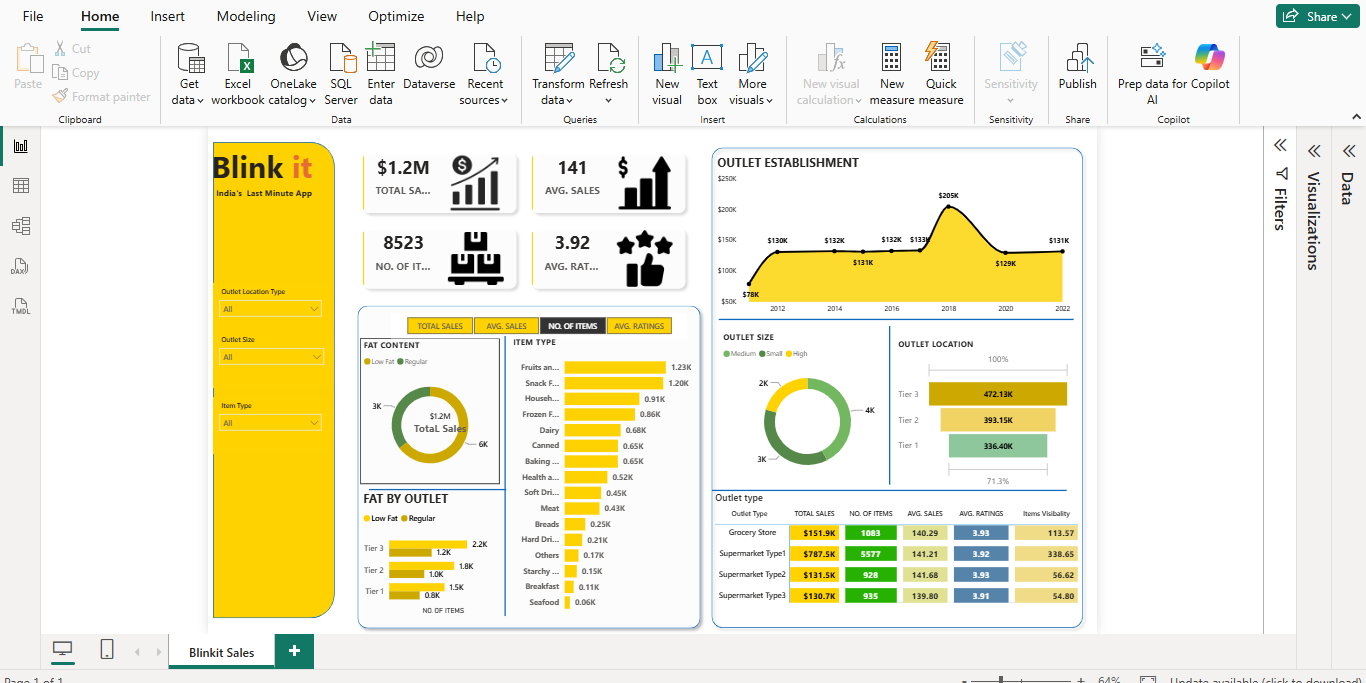

What the dashboard file says about the page in this screenshot:
{"tool":"powerbi","page":{"name":"Page 1","canvas":[1400,800],"ordinal":0},"visuals":[{"type":"shape","box":[8.3,25,191.7,750],"z":0},{"type":"textbox","box":[0,25.7,200.3,93.7],"z":1000},{"type":"textbox","box":[8.3,91.7,200,28.1],"z":2000},{"type":"cardVisual","fields":{"Data":["BlinkIT Grocery Data.TOTAL SALES","BlinkIT Grocery Data.AVG. SALES","BlinkIT Grocery Data.NO. OF ITEMS","BlinkIT Grocery Data.AVG. RATINGS"]},"box":[226,25.7,543.8,248],"z":3000},{"type":"shape","box":[226.1,273.9,557.6,526.1],"z":4000},{"type":"donutChart","title":"FAT CONTENT","fields":{"Y":["BlinkIT Grocery Data.NO. OF ITEMS"],"Category":["BlinkIT Grocery Data.Item Fat Content"]},"box":[238.8,334.4,220.5,229.7],"z":5000},{"type":"slicer","fields":{"Values":["Metrics.Metrics"]},"box":[288,294,466,40],"z":6000},{"type":"cardVisual","fields":{"Data":["BlinkIT Grocery Data.TOTAL SALES"]},"box":[304,426.3,123.2,81.8],"z":7000},{"type":"clusteredBarChart","title":" FAT BY OUTLET","fields":{"Y":["BlinkIT Grocery Data.NO. OF ITEMS"],"Category":["BlinkIT Grocery Data.Outlet Location Type"],"Series":["BlinkIT Grocery Data.Item Fat Content"]},"box":[239.1,573.6,220.7,201.1],"z":8000},{"type":"shape","box":[802.9,294,558.5,20.2],"z":9000},{"type":"shape","box":[459.8,331,16.1,441.4],"z":10000},{"type":"barChart","title":"ITEM TYPE","fields":{"Y":["BlinkIT Grocery Data.NO. OF ITEMS"],"Category":["BlinkIT Grocery Data.Item Type"]},"box":[475.9,330.7,290.3,444.6],"z":11000},{"type":"lineChart","title":"OUTLET ESTABLISHMENT","fields":{"Y":["BlinkIT Grocery Data.TOTAL SALES"],"Category":["BlinkIT Grocery Data.Outlet Establishment Year"]},"box":[797.4,44.1,565.9,260.9],"z":12000},{"type":"donutChart","title":"OUTLET SIZE","fields":{"Y":["BlinkIT Grocery Data.NO. OF ITEMS"],"Category":["BlinkIT Grocery Data.Outlet Size"]},"box":[806.6,323.4,275.6,240.7],"z":13000},{"type":"funnel","title":" OUTLET LOCATION ","fields":{"Y":["Sum(BlinkIT Grocery Data.Sales)"],"Category":["BlinkIT Grocery Data.Outlet Location Type"]},"box":[1082.2,334.4,281.1,240.7],"z":14000},{"type":"pivotTable","title":"Outlet type","fields":{"Rows":["BlinkIT Grocery Data.Outlet Type"],"Values":["BlinkIT Grocery Data.TOTAL SALES","BlinkIT Grocery Data.NO. OF ITEMS","BlinkIT Grocery Data.AVG. SALES","BlinkIT Grocery Data.AVG. RATINGS","Sum(BlinkIT Grocery Data.Item Visibility)"]},"box":[793.6,575.1,591.2,189.6],"z":15000},{"type":"shape","box":[783.9,25.7,602.4,774.3],"z":16000},{"type":"shape","box":[1065.6,314.2,14.7,249.9],"z":17000},{"type":"shape","box":[253.7,562.9,216.1,20.7],"z":18000},{"type":"shape","box":[793.7,564,558.5,20.2],"z":19000},{"type":"shape","box":[804.7,294,558.5,20.2],"z":20000},{"type":"slicer","fields":{"Values":["BlinkIT Grocery Data.Outlet Location Type"]},"box":[8.3,247.9,181.2,89.6],"z":21000},{"type":"slicer","fields":{"Values":["BlinkIT Grocery Data.Outlet Size"]},"box":[8.3,322.9,185.4,89.6],"z":22000},{"type":"slicer","fields":{"Values":["BlinkIT Grocery Data.Item Type"]},"box":[8.3,427.1,181.2,89.6],"z":23000}]}

Visuals, with their boxes on the page's 1400x800 design canvas (x1, y1, x2, y2). These are canvas units, not pixel positions in the 1366x683 screenshot, which may show the page scaled, cropped or inside an application window:
shape: Rect(8, 25, 200, 775)
textbox: Rect(0, 26, 200, 119)
textbox: Rect(8, 92, 208, 120)
cardVisual - BlinkIT Grocery Data.TOTAL SALES x BlinkIT Grocery Data.AVG. SALES: Rect(226, 26, 770, 274)
shape: Rect(226, 274, 784, 800)
"FAT CONTENT" donutChart: Rect(239, 334, 459, 564)
slicer - Metrics.Metrics: Rect(288, 294, 754, 334)
cardVisual - BlinkIT Grocery Data.TOTAL SALES: Rect(304, 426, 427, 508)
" FAT BY OUTLET" clusteredBarChart: Rect(239, 574, 460, 775)
shape: Rect(803, 294, 1361, 314)
shape: Rect(460, 331, 476, 772)
"ITEM TYPE" barChart: Rect(476, 331, 766, 775)
"OUTLET ESTABLISHMENT" lineChart: Rect(797, 44, 1363, 305)
"OUTLET SIZE" donutChart: Rect(807, 323, 1082, 564)
" OUTLET LOCATION " funnel: Rect(1082, 334, 1363, 575)
"Outlet type" pivotTable: Rect(794, 575, 1385, 765)
shape: Rect(784, 26, 1386, 800)
shape: Rect(1066, 314, 1080, 564)
shape: Rect(254, 563, 470, 584)
shape: Rect(794, 564, 1352, 584)
shape: Rect(805, 294, 1363, 314)
slicer - BlinkIT Grocery Data.Outlet Location Type: Rect(8, 248, 190, 338)
slicer - BlinkIT Grocery Data.Outlet Size: Rect(8, 323, 194, 412)
slicer - BlinkIT Grocery Data.Item Type: Rect(8, 427, 190, 517)
